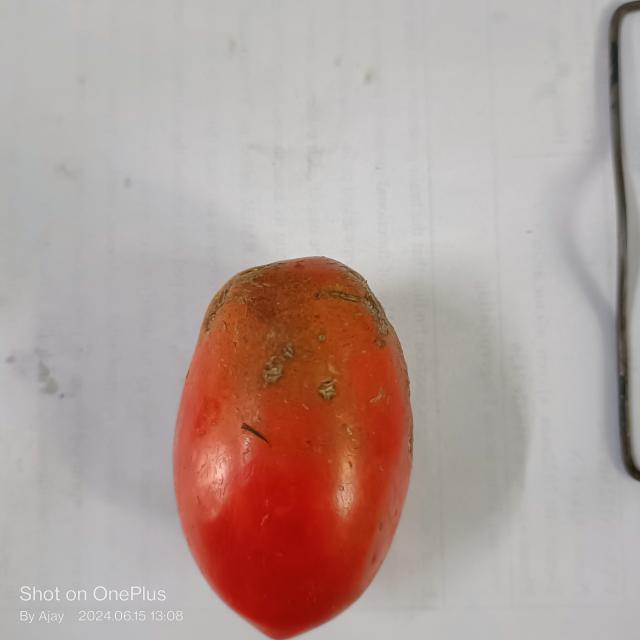Bacterial_Spot: (317, 286, 390, 343), (257, 346, 296, 388), (315, 380, 343, 404)
